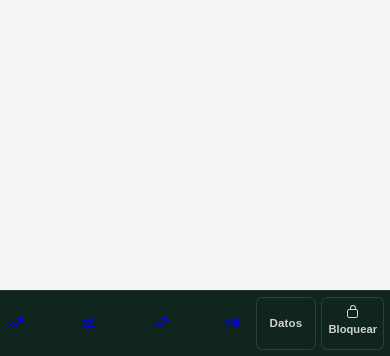
Test: Sidebar freshness › separates transaction coverage, unzoned filename date, import instant and public revision
The image size is (390, 356).
Click the text "Datos". click: (286, 323)
box: [270, 315, 302, 332]
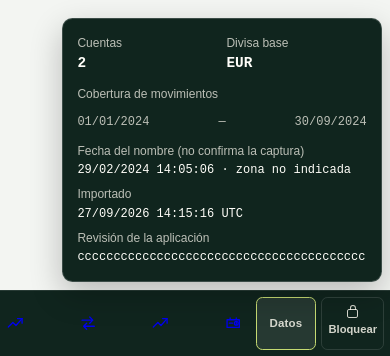
Check: the text "Cobertura de movimientos" is shown, box [77, 87, 218, 101]
Check: the text "01/01/2024" reads "01/01/2024 — 30/09/2024", box [77, 113, 367, 131]
Check: the text "Fecha del nombre (no confirma la captura)" is shown, box [77, 144, 304, 158]
